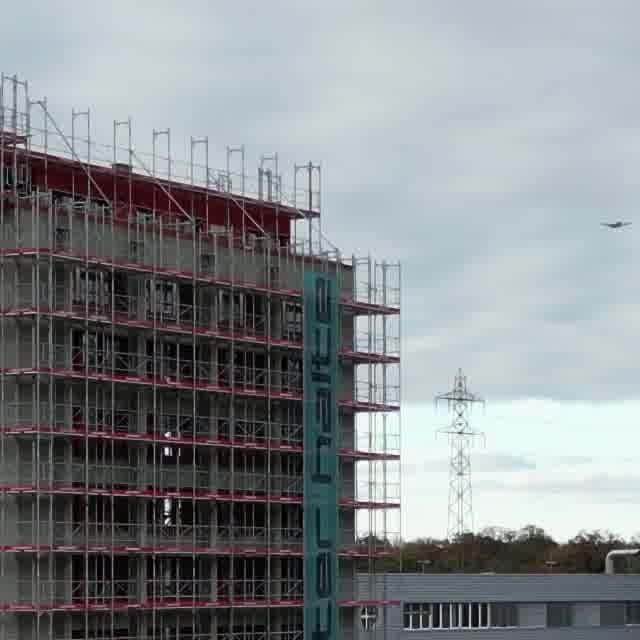Drohne: (601, 220, 631, 228)
